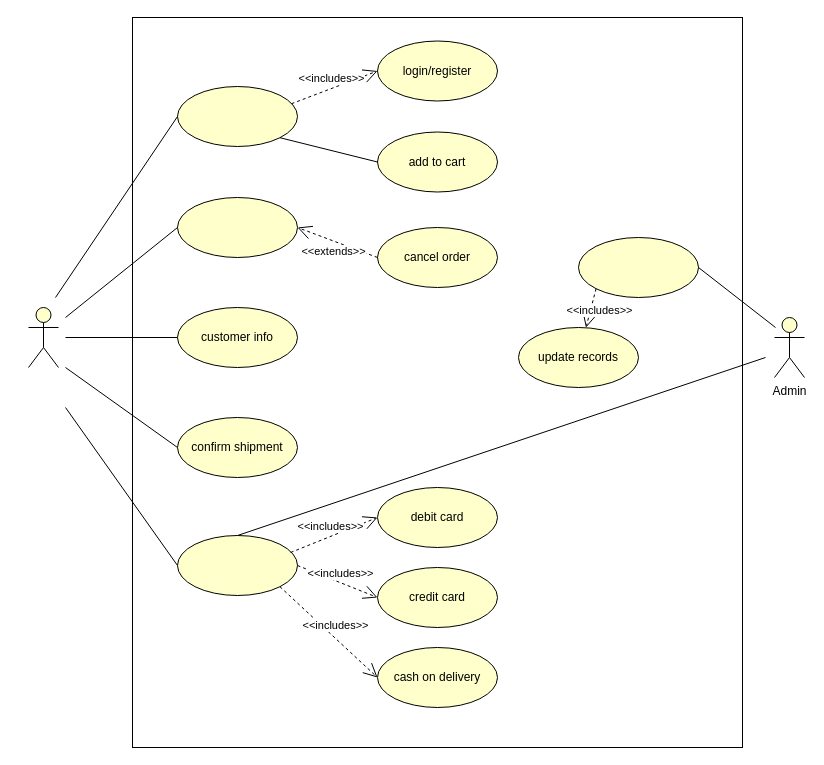
The diagram is 824 pixels wide and 765 high, and some of its shapes have lost their labels. The centre of each missing label's shape, as x and y in pixels:
browse product: point (237, 116)
Costumer: point (43, 337)
manage records: point (638, 267)
order product: point (237, 227)
payment: point (237, 565)
